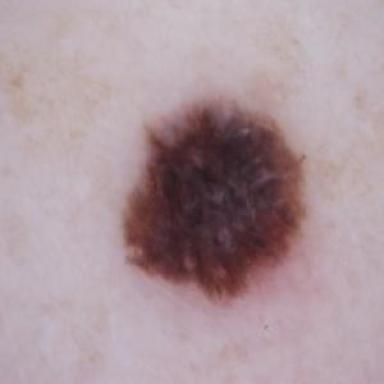Melanoma: (124, 97, 305, 300)
